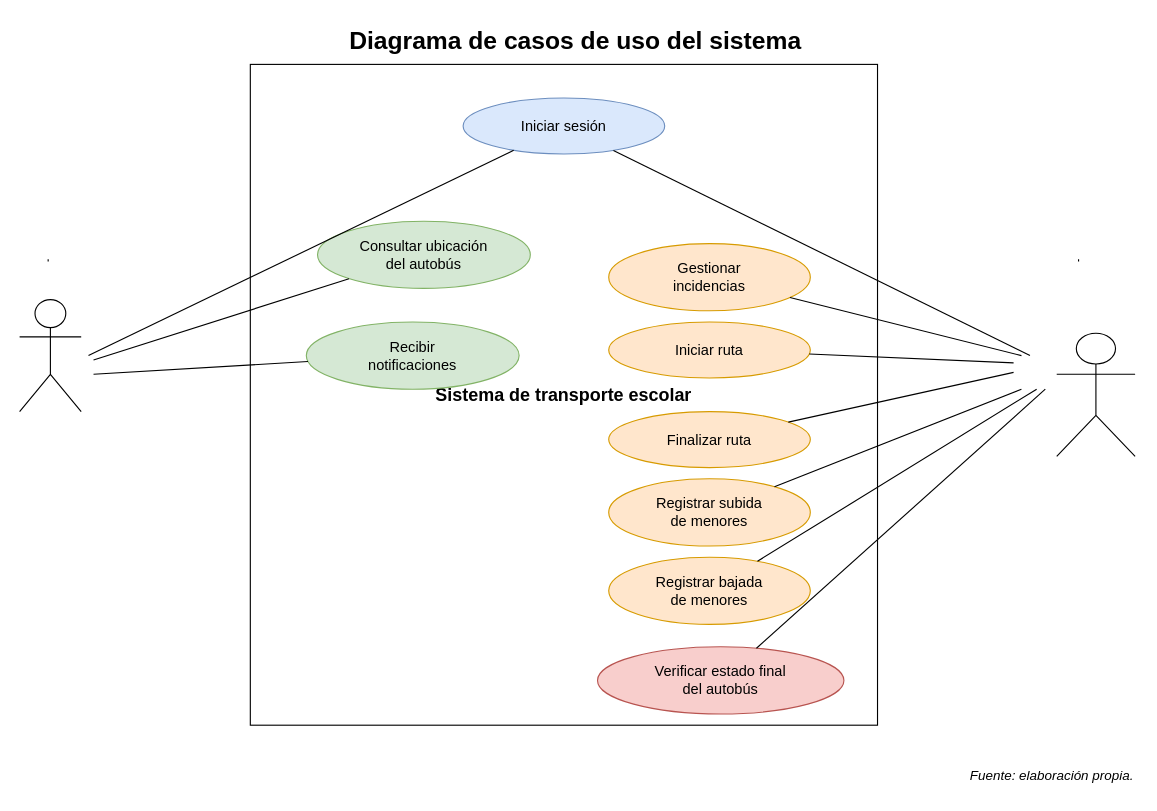
Some shapes in this 1157 by 811 pixel diagram are drawn without their labels. The shapes that lost their labels are listed below. From the top down, each one's centre as x and y in pixels, then its label:
At [49,355]: "FAMILIA".
At [1095,394]: "CUIDADOR".
